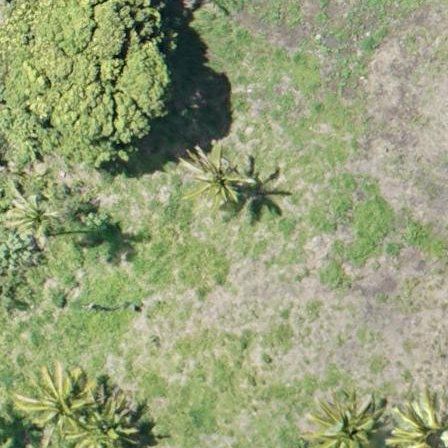palm_tree: (182, 142, 249, 213), (314, 392, 380, 448), (68, 396, 137, 448), (27, 377, 82, 436), (387, 395, 448, 448), (7, 190, 61, 248)
